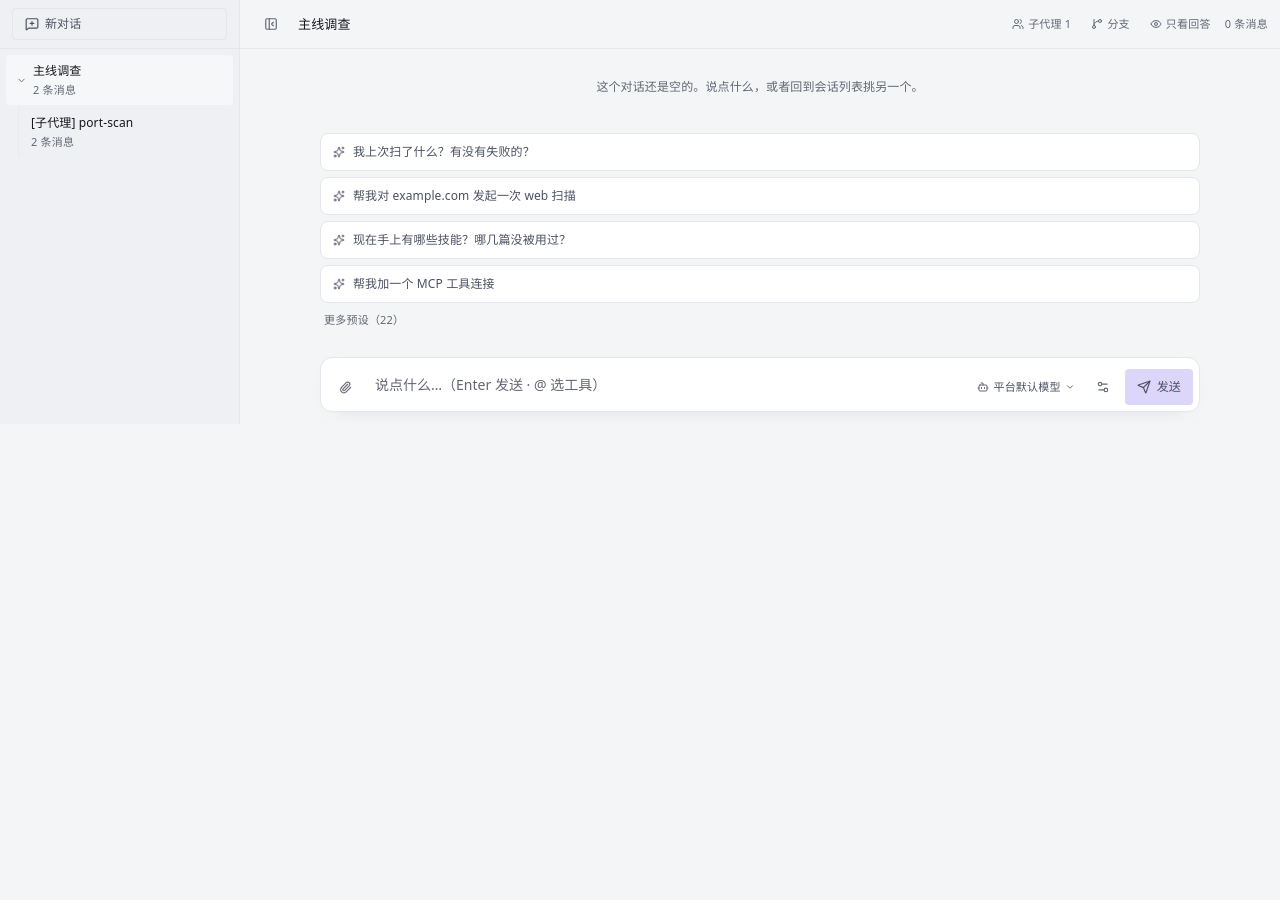
Test: ChatPage — 子代理入口与子会话面包屑（v1.92） › 主对话有子代理时出现入口，点开列出子代理
Click the button "子代理 1".
click(1042, 24)  # box left=1006, top=11, right=1077, bottom=37
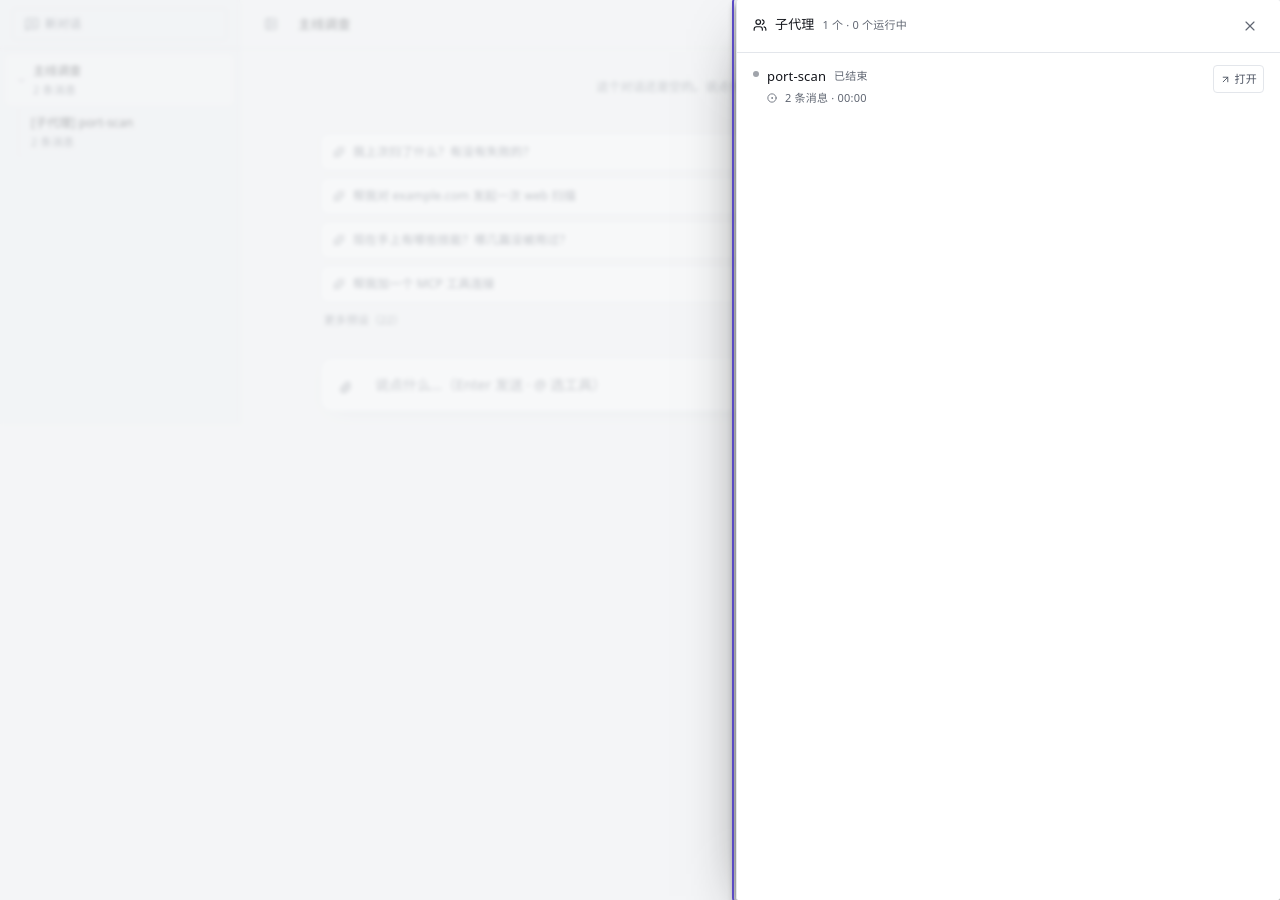
Check: the button "port-scan" is shown, box left=767, top=65, right=826, bottom=87
